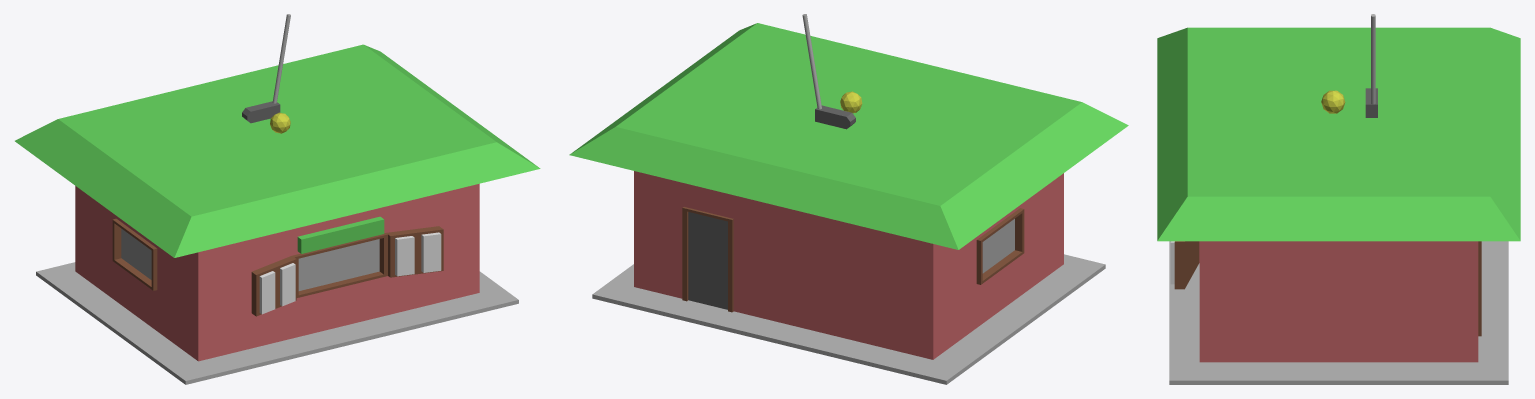
The model's file is MiniGolfHut.fbx.
3 views of the same model, side by side, from view 1: azimuth 30°, elevation 25°; view 2: azimuth 150°, elevation 25°; view 3: azimuth 270°, elevation 25° (orthographic). The views are drawn at different scales.
Parts seen in each view (by area): view 1: Cube.004, Cube.003, Cube, Cylinder; view 2: Cube.004, Cube.003, Cube, Cylinder; view 3: Cube.004, Cube.003, Icosphere, Cylinder, Cube.
Part boxes in pixels (x1,y1,x2,y2): Cube.004: (15,44,540,361); Cube.003: (36,262,518,384); Cube: (242,101,280,123); Cylinder: (272,14,290,103); Cube.004: (569,23,1128,359); Cube.003: (592,254,1105,384); Cube: (815,105,855,129); Cylinder: (802,14,821,109); Cube.004: (1157,27,1520,362); Cube.003: (1169,241,1508,384); Icosphere: (1321,90,1345,113); Cylinder: (1371,14,1375,104); Cube: (1365,88,1377,117).
Size of the model in its own units: 990 by 665 by 749.
